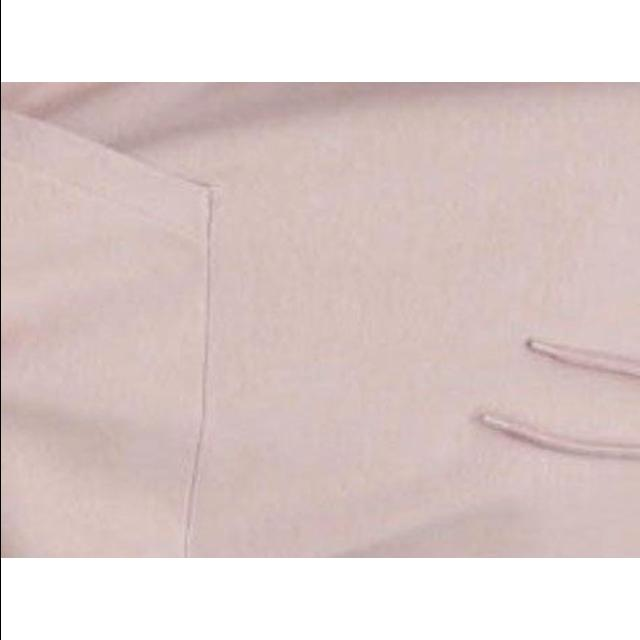cotton: (0, 82, 640, 558)
